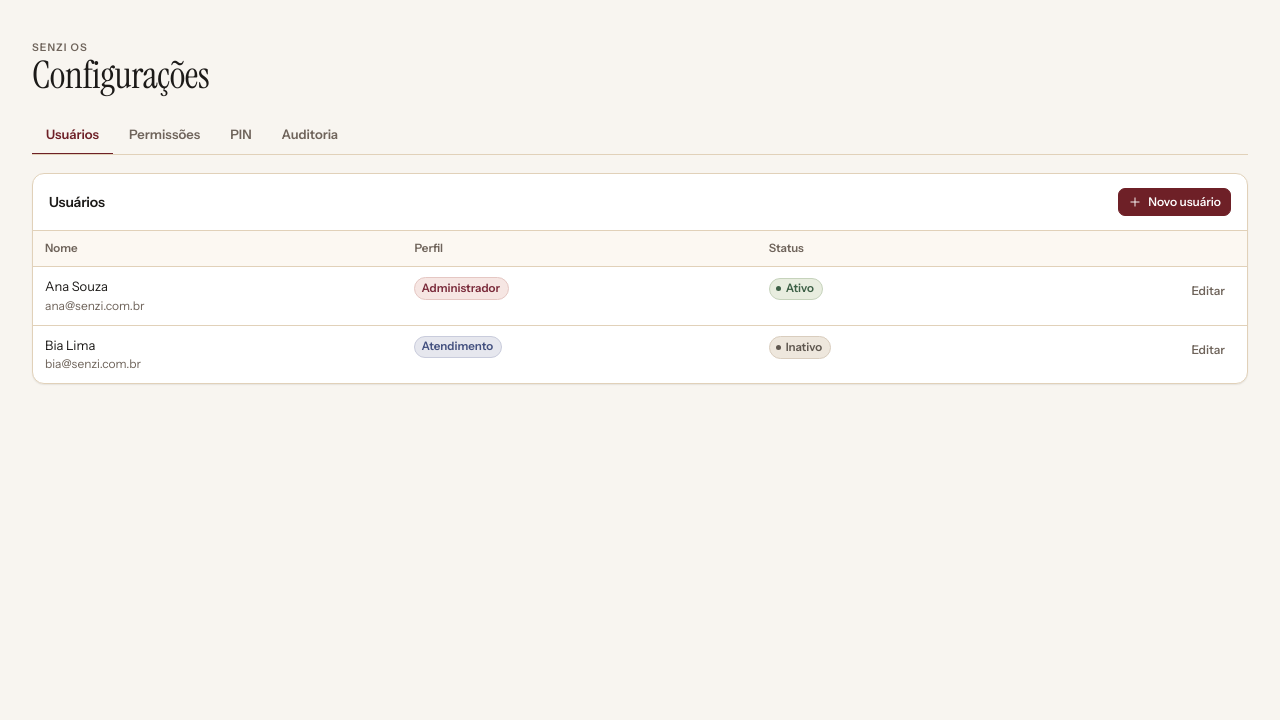
it: Usuários › desativar a si mesmo exibe a mensagem de AUTO_REBAIXAMENTO
This screenshot has width=1280, height=720.
Click the button with aria-label "Editar Ana Souza".
click(1208, 291)  # box [1181,277,1235,305]
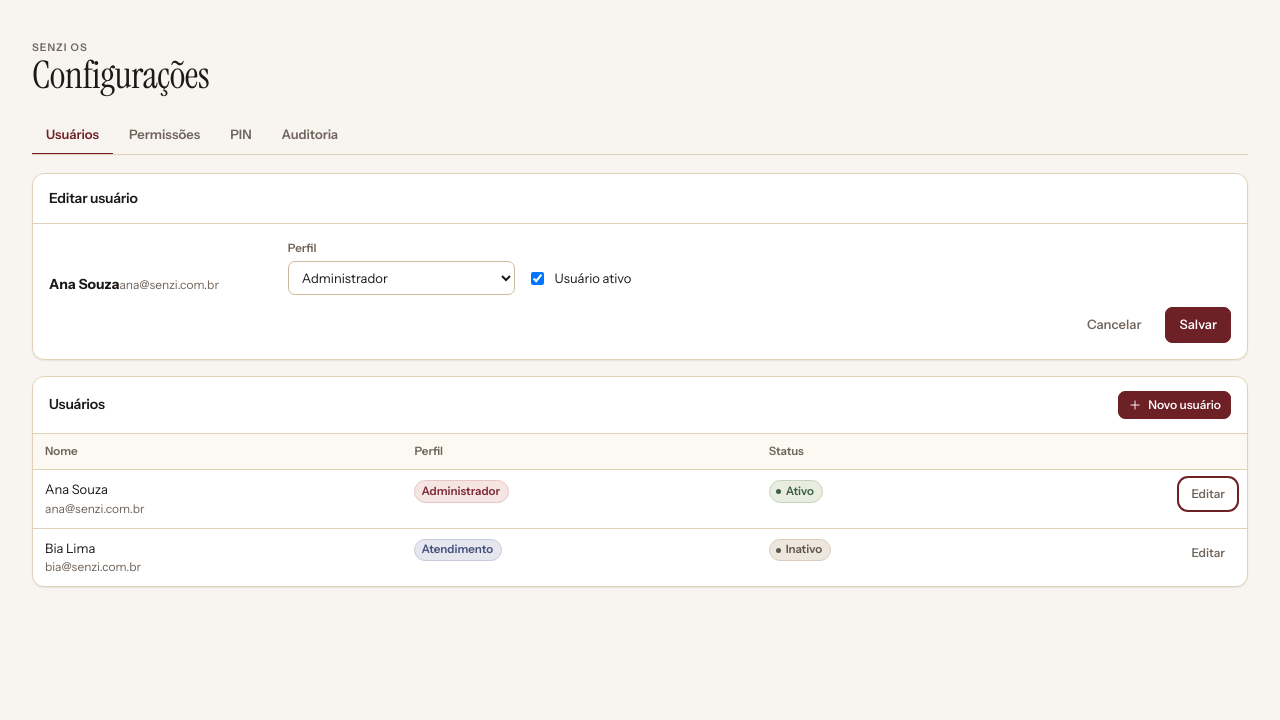
Click the checkbox labelled "Usuário ativo".
click(537, 279)  # box [531,272,544,285]
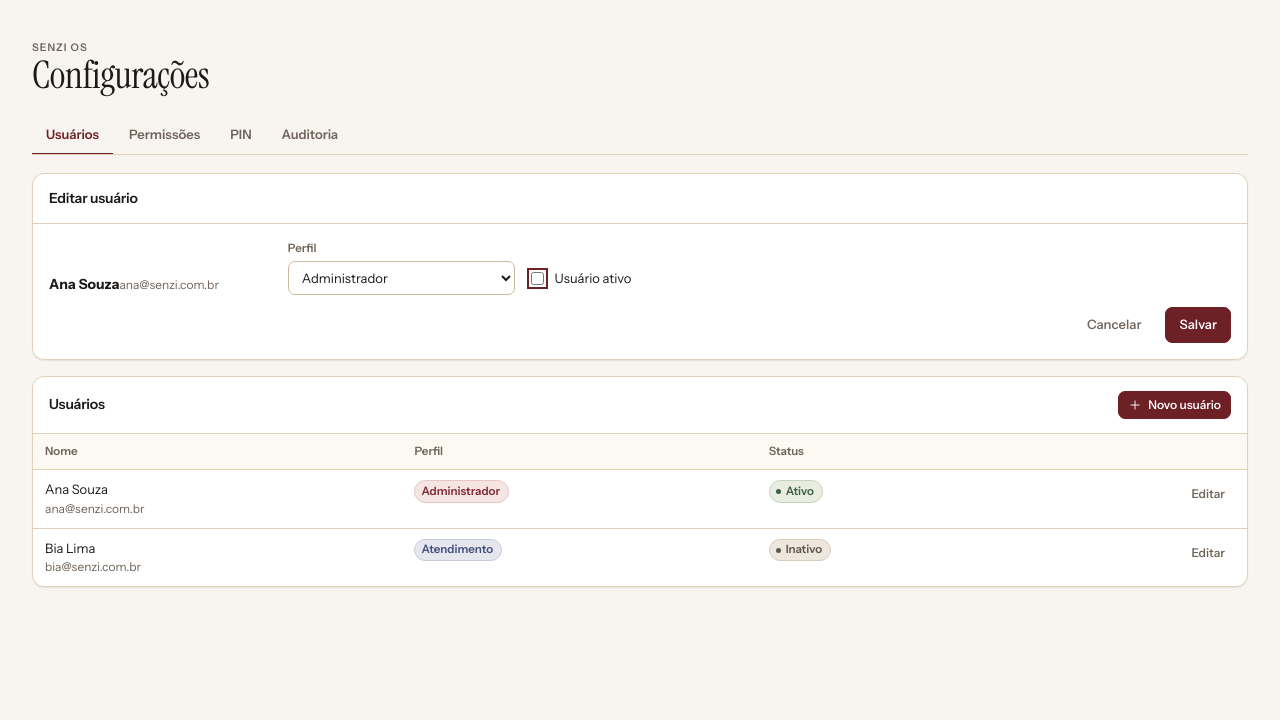
Click the button "Salvar".
click(1198, 325)  # box [1166,307,1231,343]
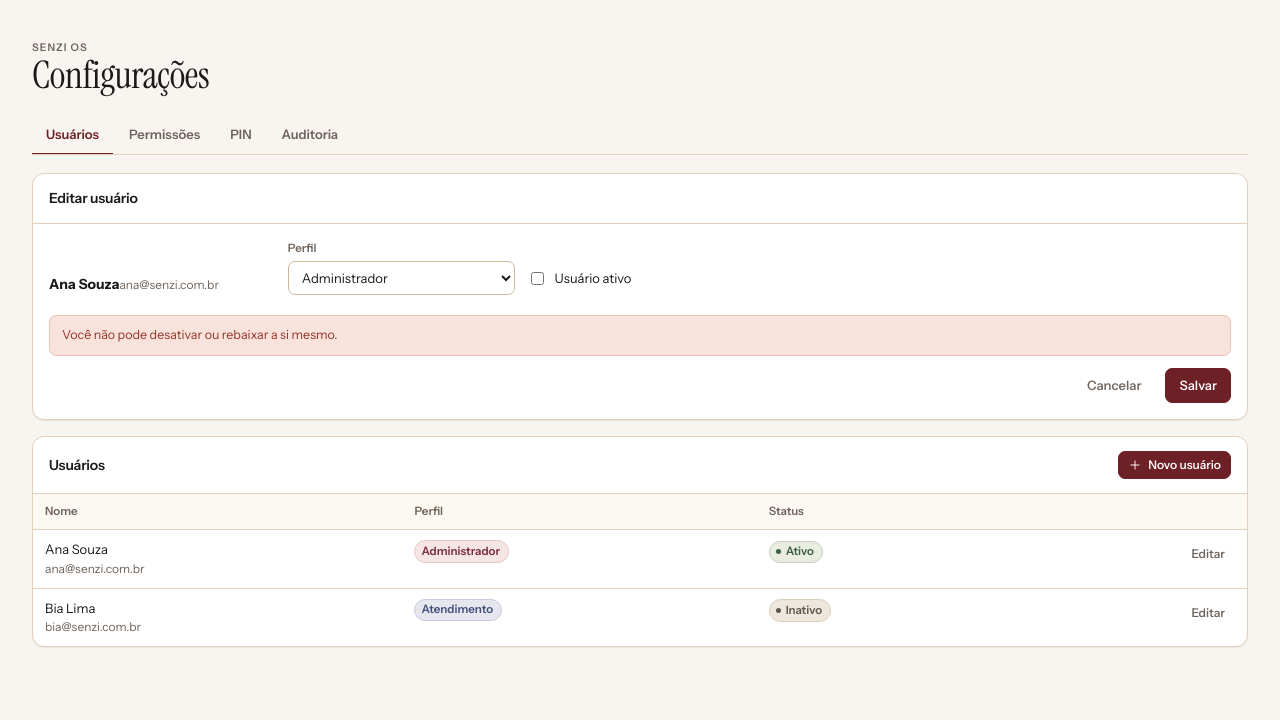
expect the text "Você não pode desativar ou rebaixar a si mesmo." is shown: met, box [49,315,1231,356]
